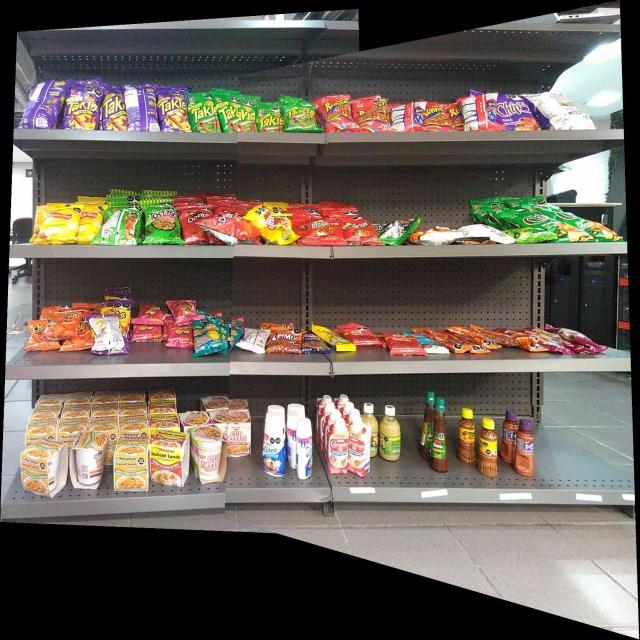bitzAlmendras: (420, 337, 447, 354)
bitzEnchilado90: (383, 335, 418, 357)
bitzEnchilado95: (450, 326, 493, 355)
bitzHabanero: (541, 328, 603, 357)
bokadosCacahuates: (302, 334, 320, 354)
botaneraChilito: (478, 421, 497, 478), (457, 409, 476, 464)
cheetosOriginal: (50, 311, 78, 336), (27, 320, 46, 352)
chipsFuego: (498, 94, 531, 131)
chipsJalapeno: (540, 213, 588, 242)
churrumais: (132, 302, 163, 325), (167, 298, 197, 321), (167, 329, 192, 348)
delPrimoSalsa: (380, 406, 400, 460)
doritosNacho: (180, 207, 205, 240)
fritosLimon: (252, 207, 292, 244)
leoMix: (270, 328, 299, 354)
maruchanPollo: (21, 440, 64, 494), (71, 432, 105, 488), (115, 434, 148, 491)
maruchanRes: (150, 431, 188, 487)
nestleCarnation: (328, 418, 348, 474), (351, 424, 370, 476)
nestleLechera: (262, 417, 284, 476), (296, 419, 312, 479)
nissinCamaron: (190, 428, 225, 483)
nissinRes: (229, 411, 251, 457)
productoAtras: (535, 95, 583, 129), (29, 84, 60, 130), (426, 227, 506, 244), (88, 317, 122, 356), (459, 97, 496, 132), (128, 85, 155, 132), (102, 210, 134, 247), (380, 218, 416, 246), (392, 105, 423, 131), (241, 327, 265, 354)
rancheritos: (305, 220, 344, 246), (347, 218, 371, 244)
runners: (320, 96, 351, 133), (353, 100, 388, 132), (428, 102, 449, 132)
sabritasOriginal: (41, 207, 75, 244), (78, 205, 98, 238)
salsaBufalo: (432, 399, 448, 469)
semillasCalabaza: (324, 327, 349, 352)
semillasGirasol: (194, 326, 222, 354)
tajinDulce: (518, 421, 536, 477), (502, 409, 514, 462)
takisFuego: (66, 86, 98, 130), (159, 88, 186, 132), (102, 91, 125, 130)
takisOriginal: (189, 97, 215, 132), (288, 104, 316, 133), (258, 105, 283, 133), (220, 99, 238, 131), (241, 104, 255, 134)
tostitos: (144, 206, 177, 245)
